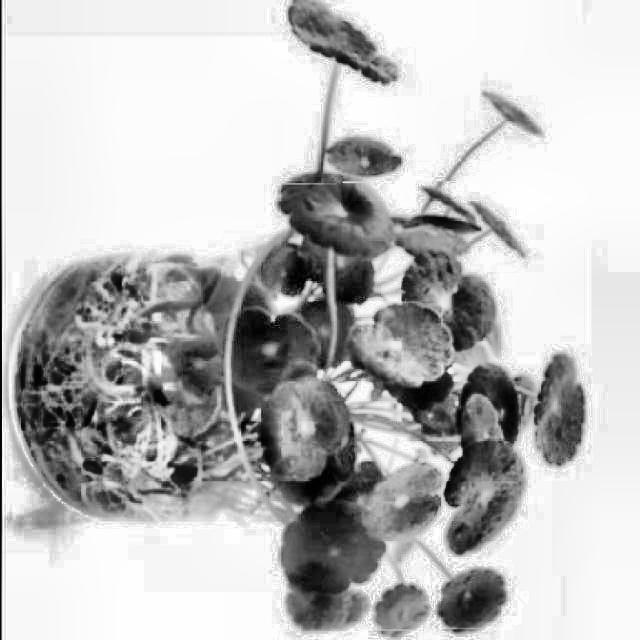plants: (8, 181, 588, 634)
